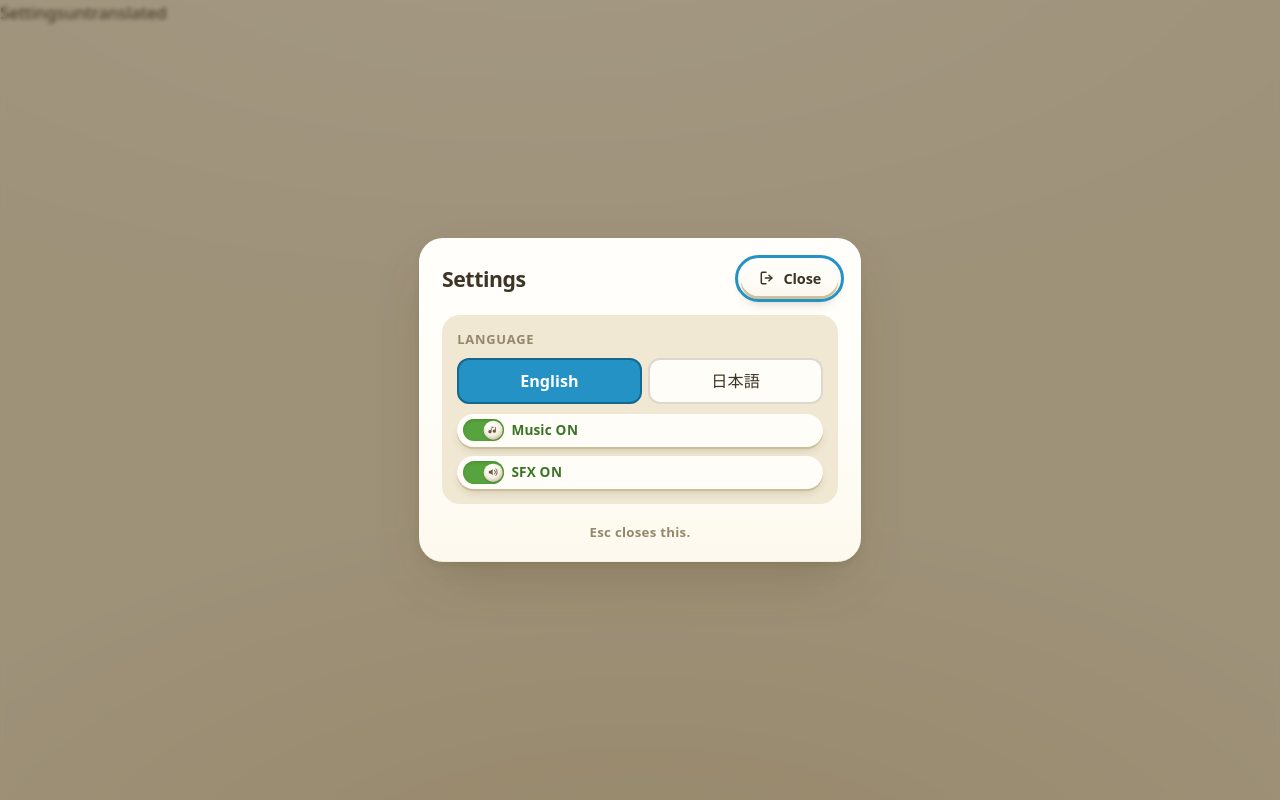
Test: the language setting › changes the chrome and the board’s own words together, on one press
The image size is (1280, 800).
Expected: the text with test id "chrome" reads "Settings", [0,1,65,24]
Expected: the text with test id "tile" reads "untranslated", [65,1,167,24]
Click the button "日本語".
click(736, 381)  # box [648,358,823,404]
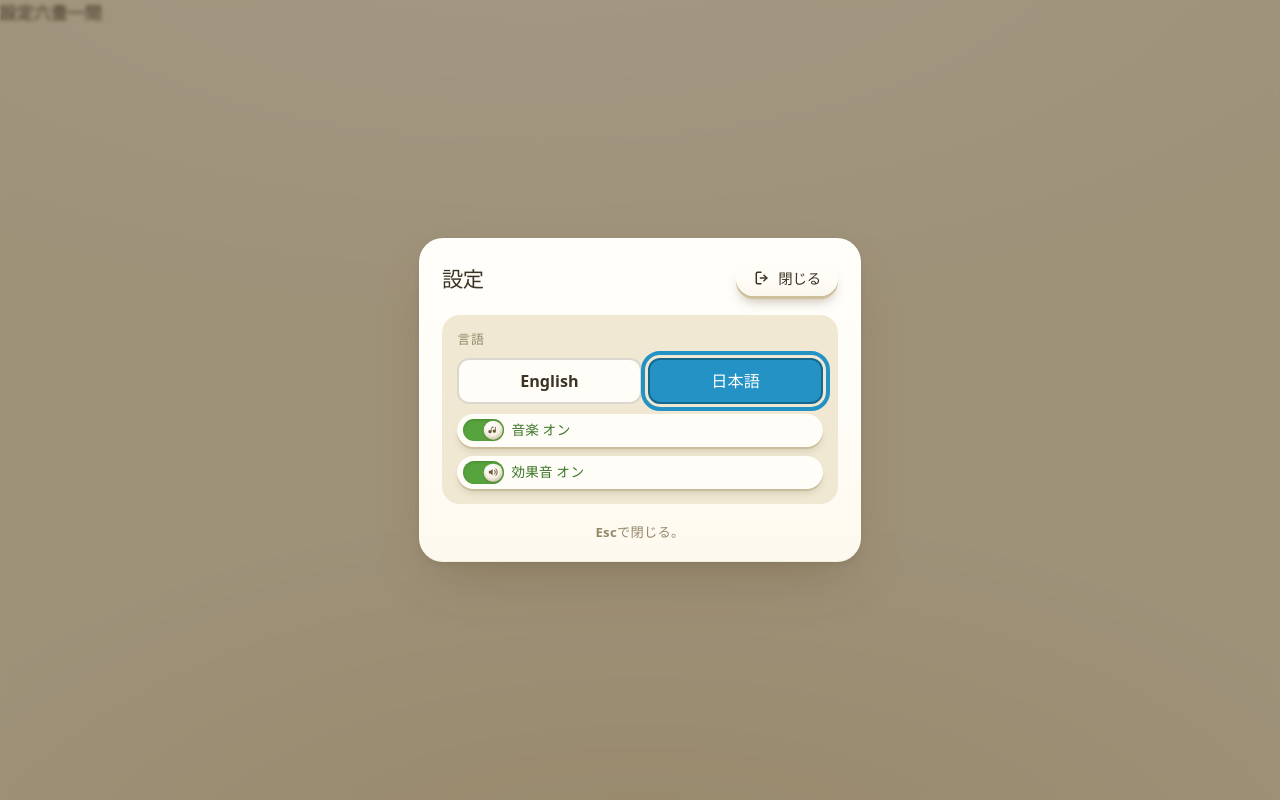
Expected: the text with test id "chrome" reads "設定", [0,1,34,24]
Expected: the text with test id "tile" reads "六畳一間", [34,1,102,24]
